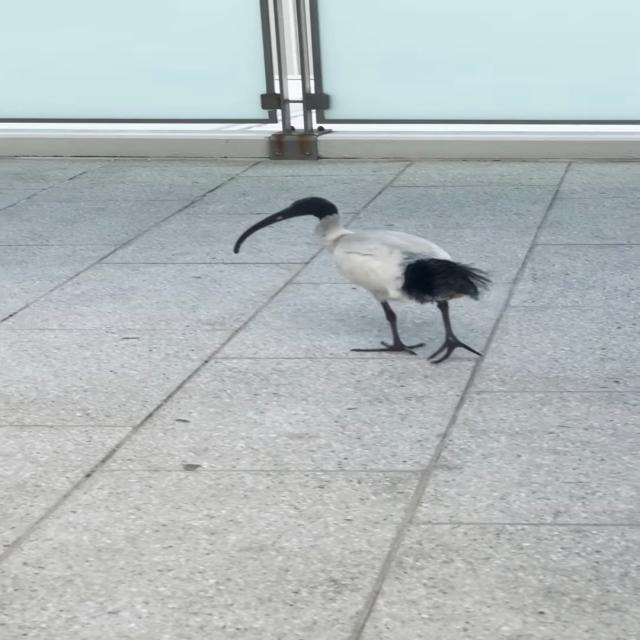Birds-Ibis: (225, 191, 495, 369)
